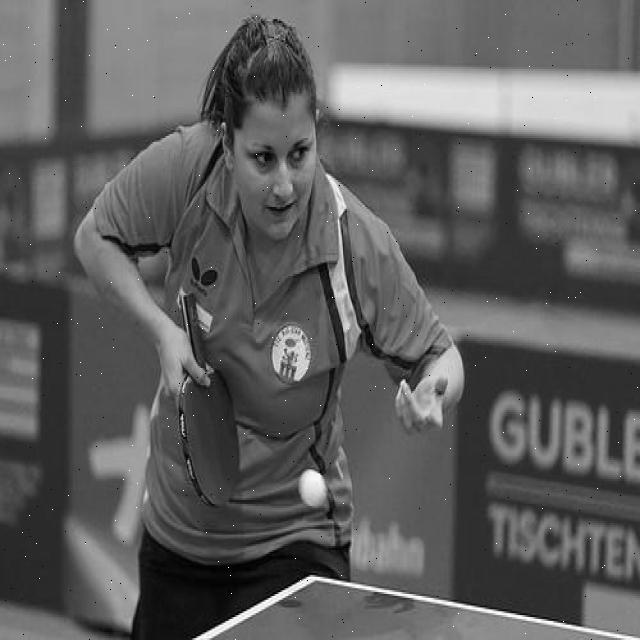ping-pong-ball: (299, 468, 328, 508)
